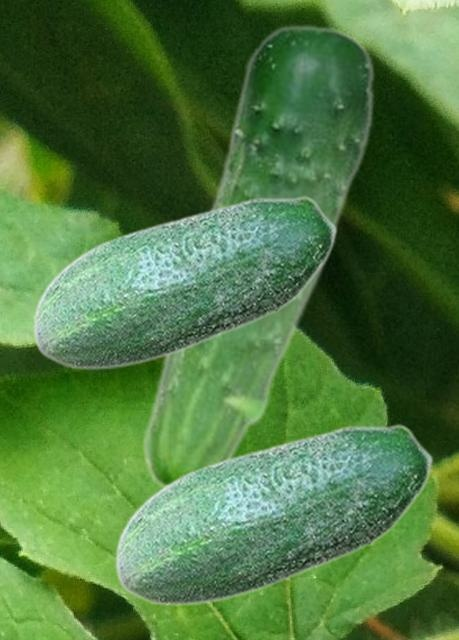cucumber: (140, 24, 375, 487), (114, 423, 433, 605), (32, 195, 337, 369)
